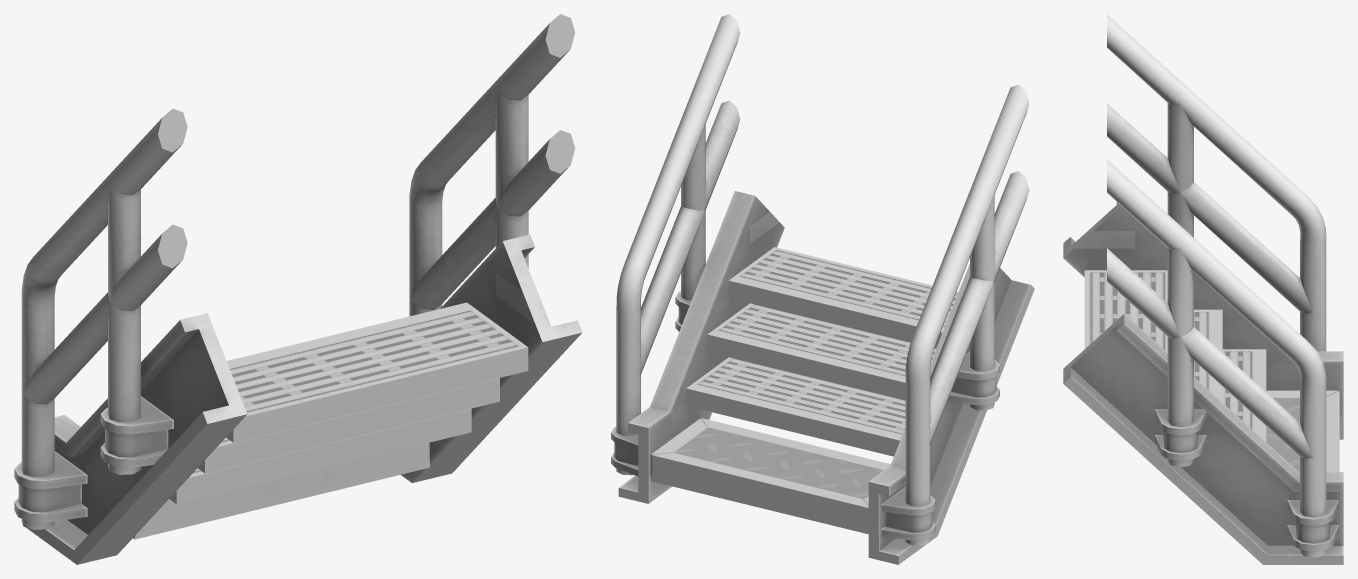
The model's file is Pfb_Stairs_New__4.fbx.
3 renders of one model, left to right at view 1: azimuth 30°, elevation 25°; view 2: azimuth 150°, elevation 25°; view 3: azimuth 270°, elevation 25°, orthographic. The views are drawn at different scales.
Visible parts, largest first — view 1: Mat_Stairs; view 2: Mat_Stairs; view 3: Mat_Stairs.
Part boxes in pixels (box(x1,y1,x2,y2)): Mat_Stairs: box(14, 14, 582, 564); Mat_Stairs: box(611, 14, 1034, 564); Mat_Stairs: box(1063, 14, 1343, 564).
Size of the model in its own units: 1.83 by 2.18 by 1.36.
1 material, 1 textured.
